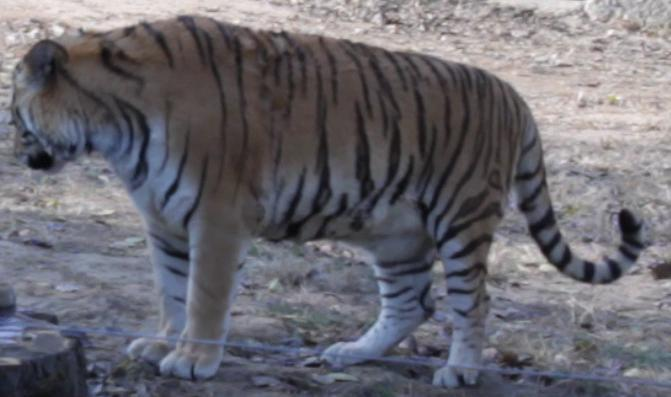tiger: (11, 15, 642, 386)
